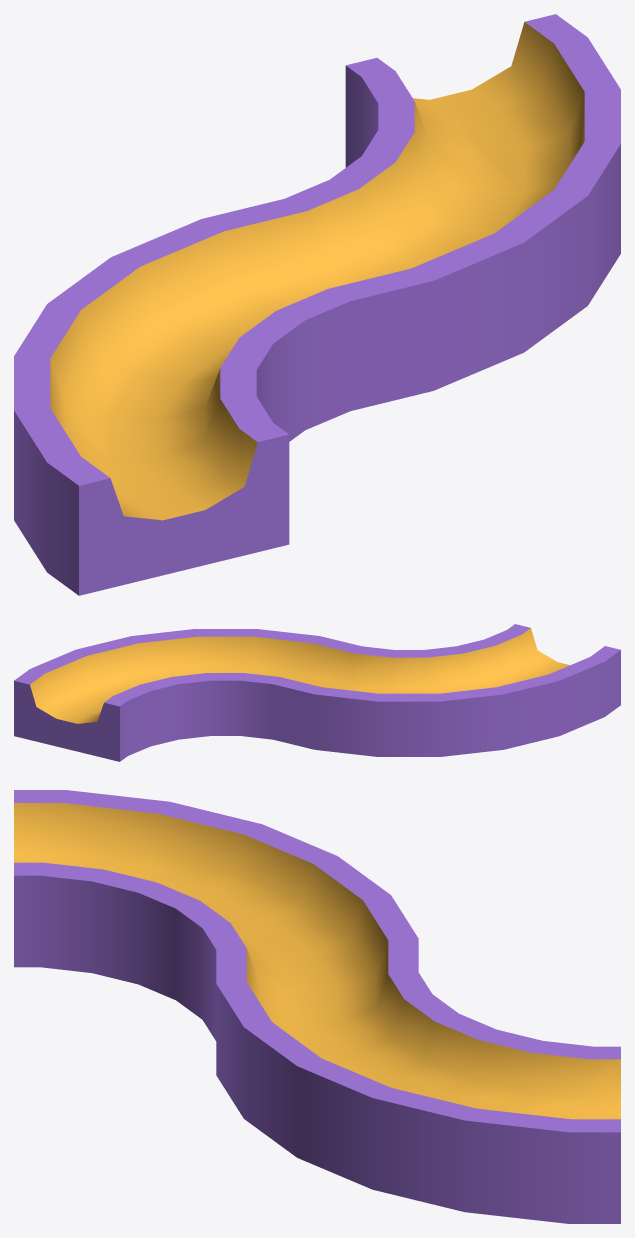
The model's file is kenney-marble-s-curve-right.glb.
The picture shows the model from 3 angles, top to bottom: view 1: azimuth 30°, elevation 25°; view 2: azimuth 150°, elevation 25°; view 3: azimuth 270°, elevation 25°; orthographic projection. The views are drawn at different scales.
Visible parts, largest first — view 1: s-curve-right; view 2: s-curve-right; view 3: s-curve-right.
Boxes of the visible parts, bbox=[...] form: s-curve-right: bbox=[14, 14, 620, 595]; s-curve-right: bbox=[14, 624, 620, 761]; s-curve-right: bbox=[14, 790, 620, 1223].
Size of the model in its own units: 4 by 0.5 by 3.
Materials: 1 (1 with a texture image).
